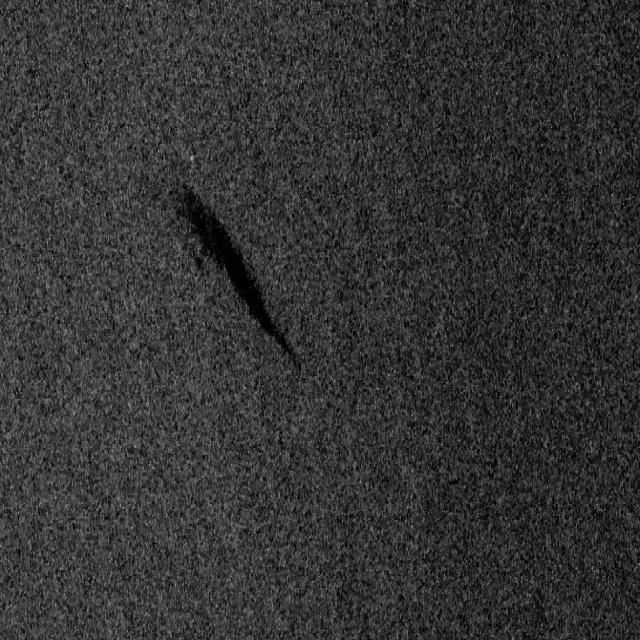oil-spill: (174, 174, 305, 380)
